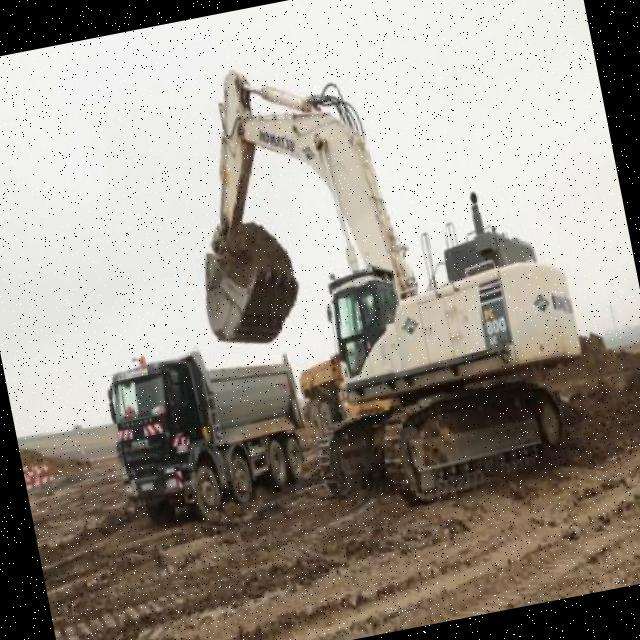Dump Truck: (98, 326, 321, 538), (295, 340, 405, 444)
Excavator: (161, 13, 604, 536)
